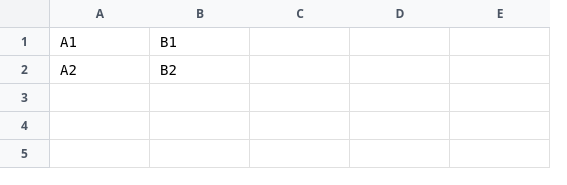
Test: Grid - Cell Editing Input › commits edit on Tab and exits edit mode
Step 1. Double-click the element with class "grid-cell" showing "A1" → (100, 42), box left=50, top=28, right=150, bottom=56
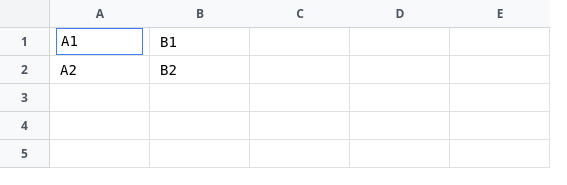
Step 2. Replace the text in the field with "TabValue" → (100, 41), box left=56, top=28, right=143, bottom=54
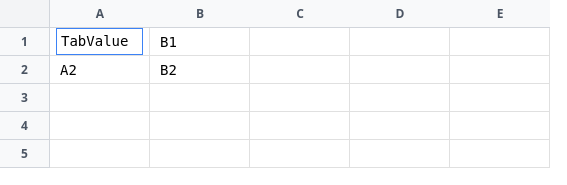
Step 3. Press Tab in the field, box left=56, top=28, right=143, bottom=54
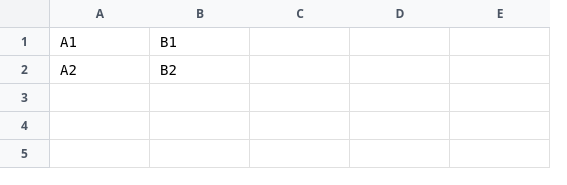
Check: the field is gone
